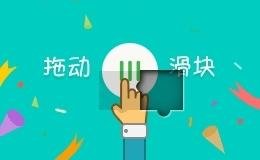target: (118, 50, 162, 90)
